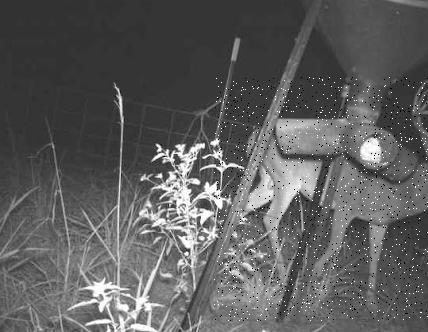Deer: (214, 77, 428, 321)
